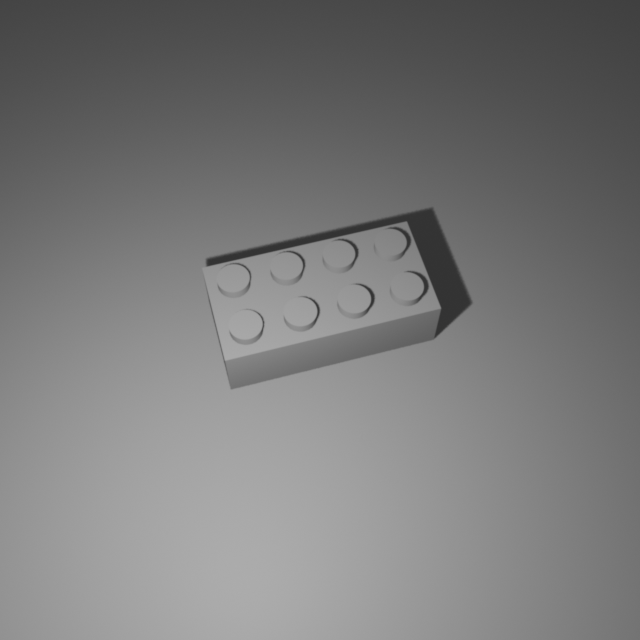lego_2x4: (201, 215, 443, 390)
